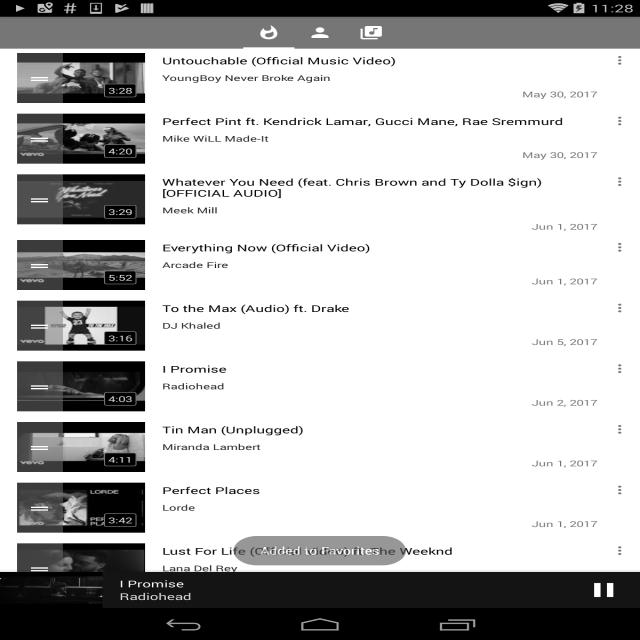ImageButton: (581, 580, 634, 603), (249, 23, 284, 44), (356, 24, 387, 44), (305, 25, 339, 42)
ImageView: (10, 234, 148, 292), (9, 49, 148, 106), (17, 113, 151, 168), (11, 360, 145, 412), (16, 299, 145, 352), (8, 177, 151, 224), (13, 421, 141, 473), (16, 482, 141, 533), (19, 542, 147, 586)
TextView: (156, 113, 569, 147), (157, 171, 549, 205), (157, 54, 428, 84), (152, 238, 372, 270), (160, 542, 462, 562), (153, 301, 358, 330), (160, 424, 314, 451), (158, 484, 253, 516), (117, 574, 200, 607), (160, 362, 237, 390)
